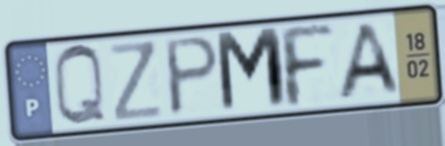A: (333, 20, 405, 103)
F: (274, 22, 338, 111)
M: (212, 24, 292, 118)
P: (163, 32, 224, 120)
Q: (50, 41, 110, 130)
Z: (106, 37, 167, 125)
